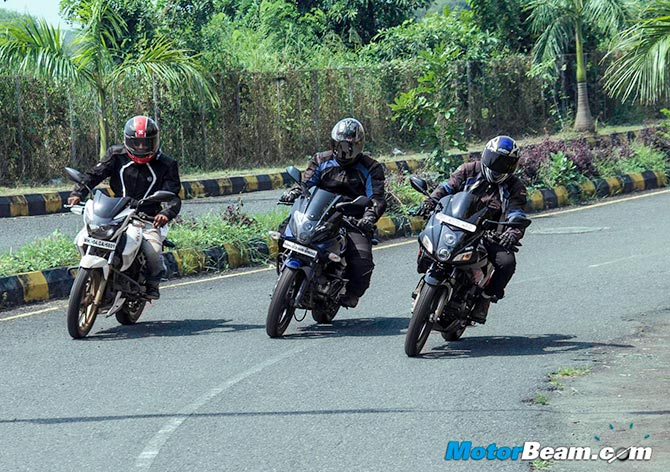helmet: (119, 113, 163, 163), (325, 116, 369, 166), (478, 134, 522, 184)
